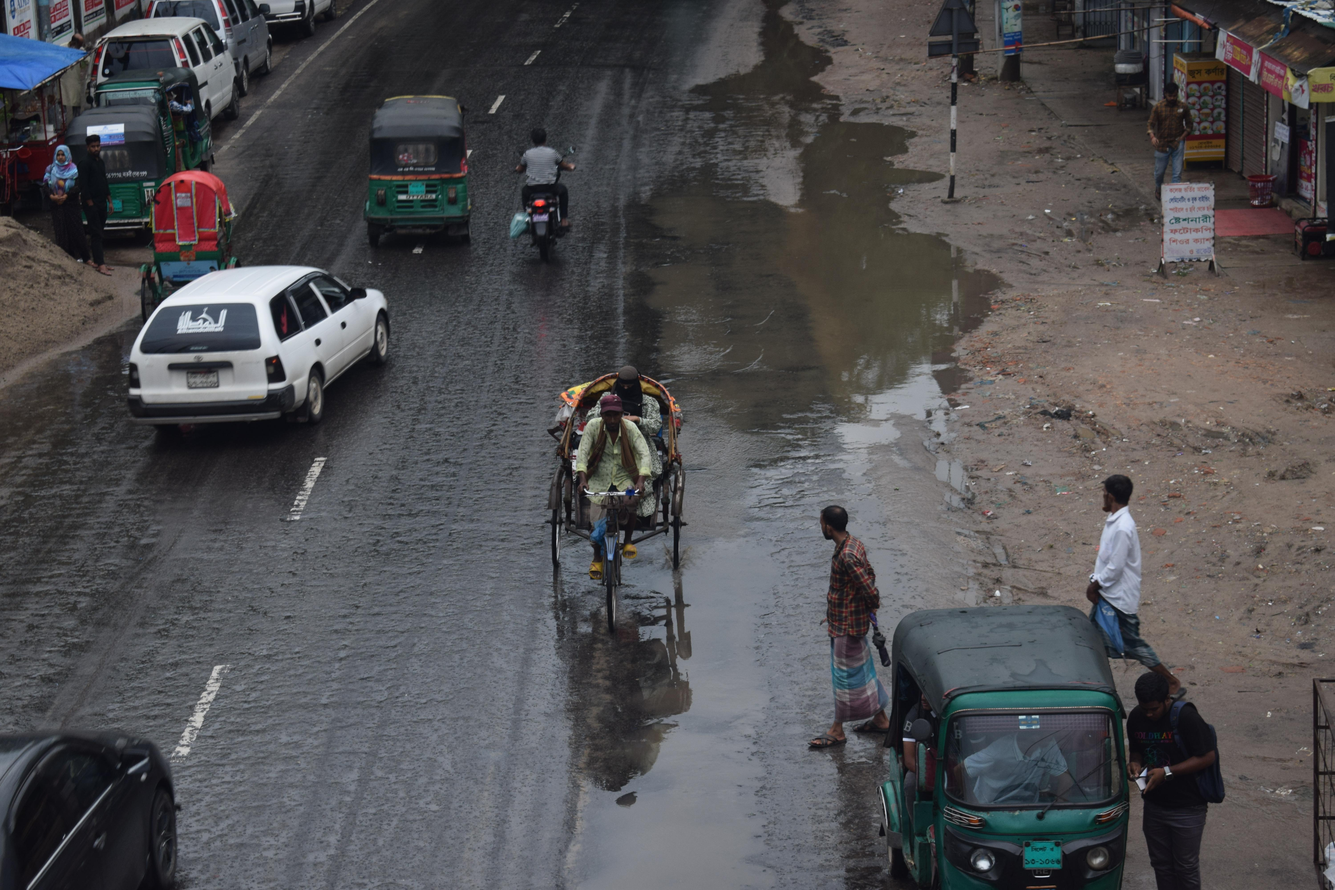Bike: (481, 106, 606, 297)
Car: (492, 330, 722, 665), (86, 256, 426, 455), (85, 17, 259, 145), (127, 163, 256, 316)
